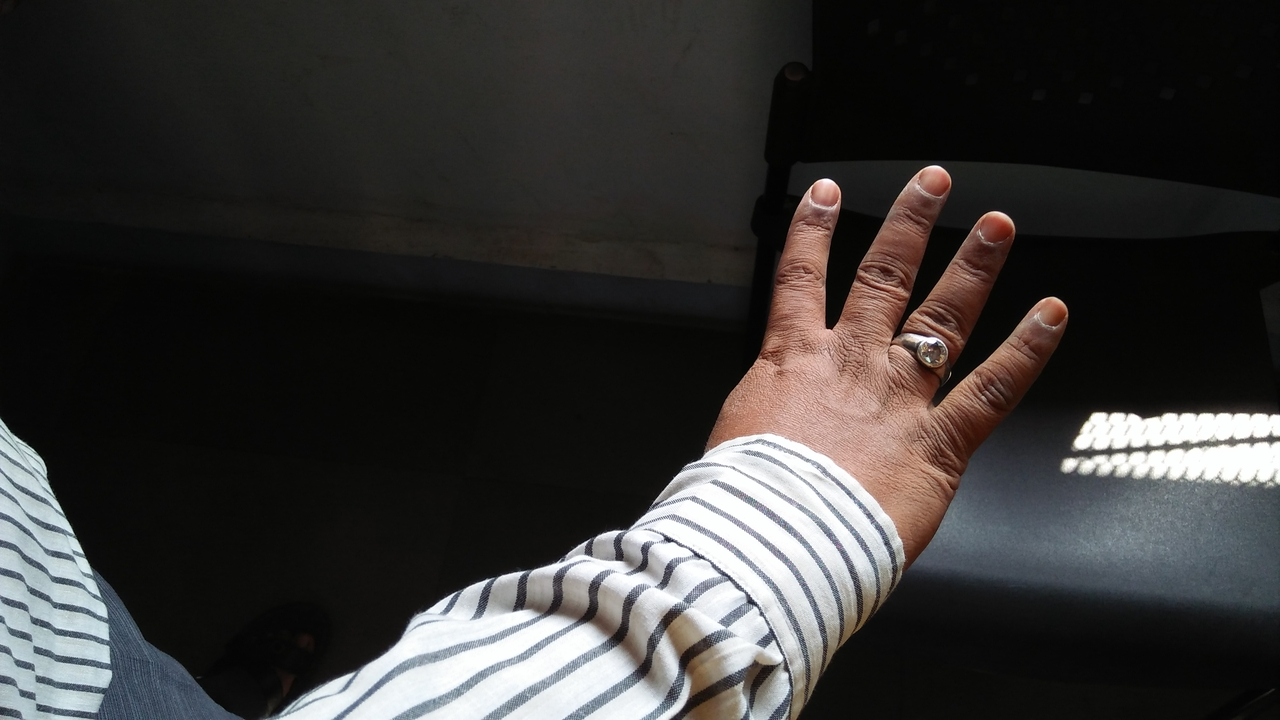fingertip: (1020, 288, 1080, 344), (966, 202, 1028, 254), (794, 168, 852, 218), (904, 158, 964, 206)
